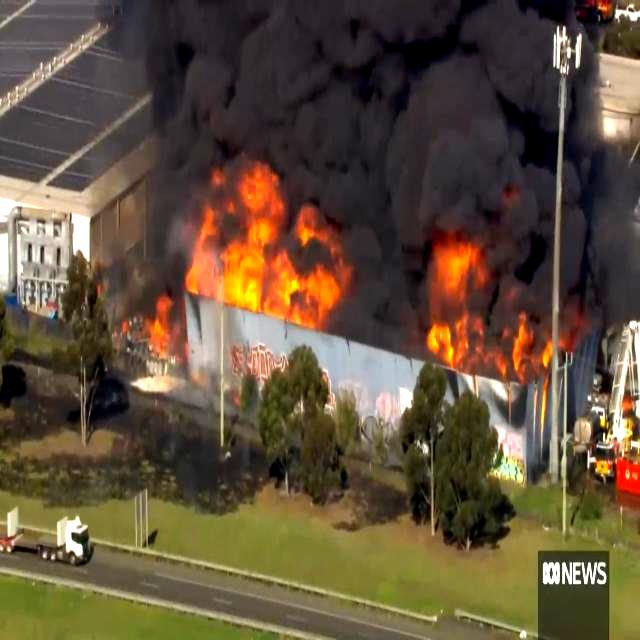fire: (184, 158, 352, 322), (424, 242, 484, 362), (514, 327, 562, 377)
